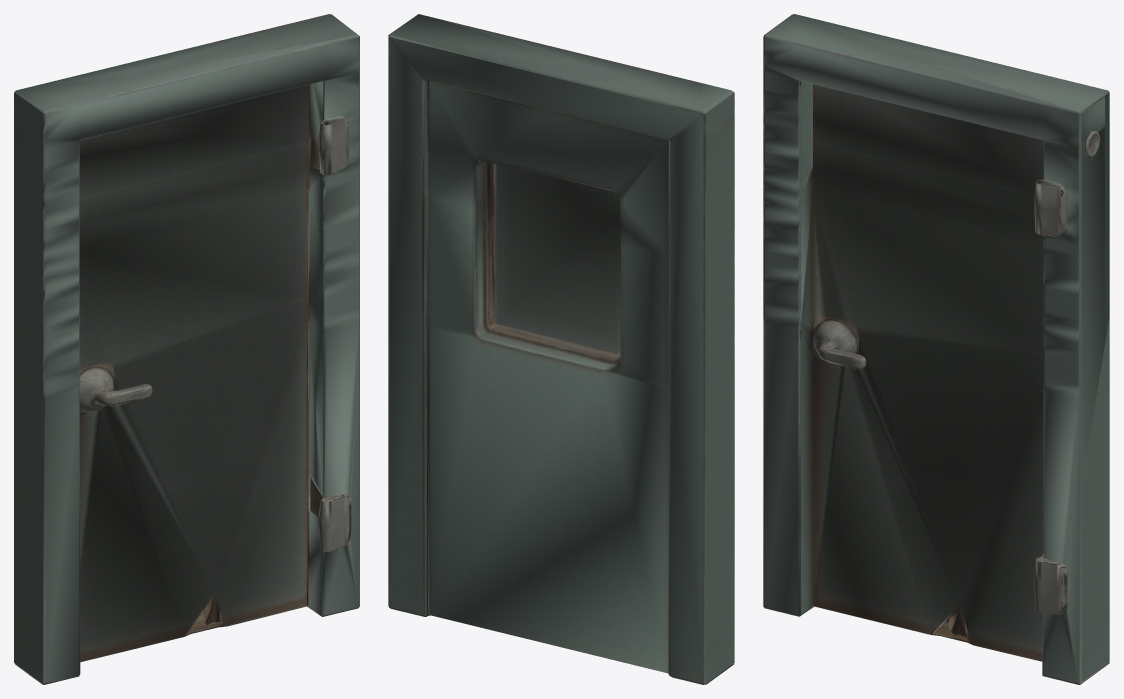
The model's file is Door_Pharmacy.fbx.
3 views of the same model, side by side, from view 1: azimuth 30°, elevation 25°; view 2: azimuth 150°, elevation 25°; view 3: azimuth 330°, elevation 25° (orthographic).
Visible parts, largest first — view 1: mesh_node; view 2: mesh_node; view 3: mesh_node.
Boxes of the visible parts, bbox=[...] form: mesh_node: bbox=[14, 14, 359, 684]; mesh_node: bbox=[388, 14, 734, 684]; mesh_node: bbox=[763, 14, 1109, 684].
Size of the model in its own units: 110 by 191 by 21.53.
1 material, 1 textured.
